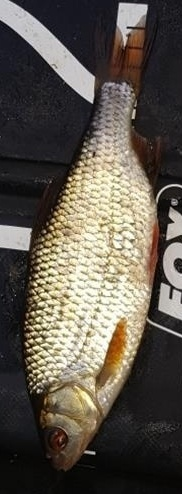Rutilus rutilus: (20, 20, 162, 474)
